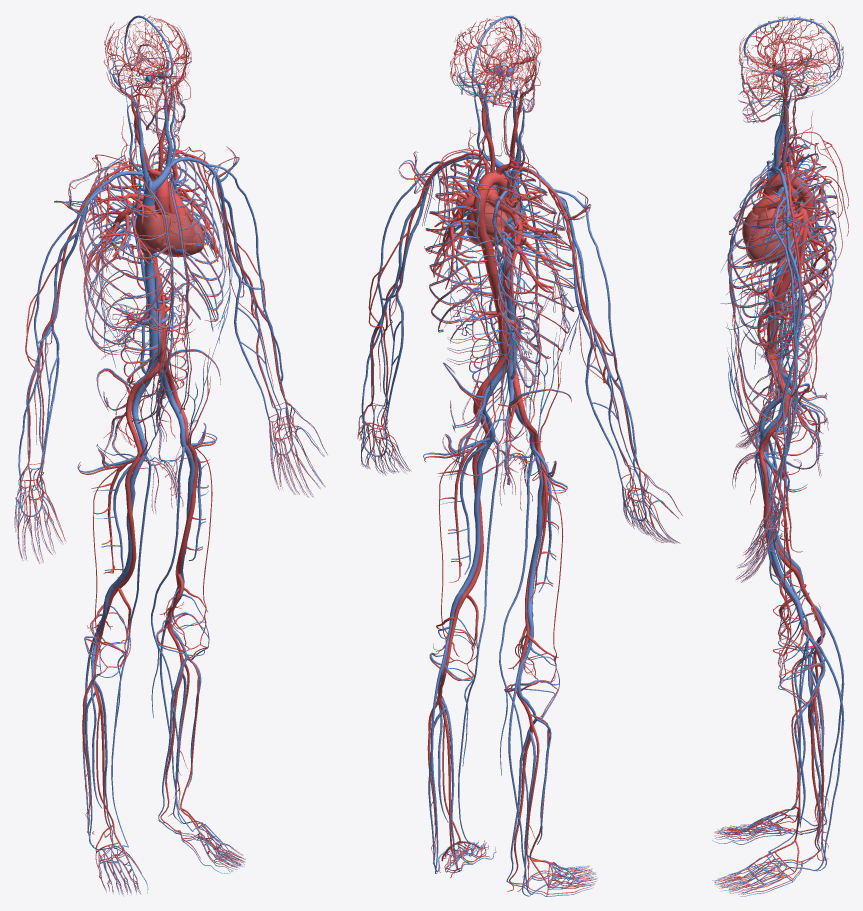
File: circulatory.glb
The picture shows the model from 3 angles, left to right: view 1: azimuth 30°, elevation 25°; view 2: azimuth 150°, elevation 25°; view 3: azimuth 270°, elevation 25°; orthographic projection. The views are drawn at different scales.
Parts seen in each view (by area): view 1: CRD.right_superior_intercostal_vein.C, CRD.posterior_intercostal_arteries.R, CRD.left_superior_intercostal_vein.C, CRD.great_saphenous_vein.L, CRD.right_atrium.C, CRD.great_saphenous_vein.R, CRD.right_ventricle.C, CRD.posterior_intercostal_arteries.L, CRD.femoral_artery.R, CRD.cephalic_vein.R, CRD.femoral_artery.L, CRD.cephalic_vein.L (+2 smaller); view 2: CRD.posterior_intercostal_arteries.R, CRD.right_superior_intercostal_vein.C, CRD.left_superior_intercostal_vein.C, CRD.posterior_intercostal_arteries.L, CRD.great_saphenous_vein.L, CRD.great_saphenous_vein.R, CRD.femoral_vein.L, CRD.femoral_vein.R, CRD.cephalic_vein.R, CRD.thoracic_aorta.C, CRD.basilic_vein.L, CRD.basilic_vein.R (+4 smaller); view 3: CRD.left_superior_intercostal_vein.C, CRD.posterior_intercostal_arteries.L, CRD.cephalic_vein.L, CRD.right_superior_intercostal_vein.C, CRD.left_ventricle.C, CRD.small_saphenous_vein.L, CRD.femoral_artery.L, CRD.great_saphenous_vein.R, CRD.abdominal_aorta.C, CRD.small_saphenous_vein.R, CRD.great_saphenous_vein.L, CRD.posterior_intercostal_arteries.R (+24 smaller).
Boxes of the visible parts, <box> form: CRD.right_superior_intercostal_vein.C: <box>81,155,172,351</box>; CRD.posterior_intercostal_arteries.R: <box>79,163,169,354</box>; CRD.left_superior_intercostal_vein.C: <box>144,147,225,330</box>; CRD.great_saphenous_vein.L: <box>151,446,192,831</box>; CRD.right_atrium.C: <box>135,205,170,254</box>; CRD.great_saphenous_vein.R: <box>111,456,151,846</box>; CRD.right_ventricle.C: <box>153,211,197,256</box>; CRD.posterior_intercostal_arteries.L: <box>149,153,225,331</box>; CRD.femoral_artery.R: <box>115,431,142,590</box>; CRD.cephalic_vein.R: <box>18,187,101,488</box>; CRD.femoral_artery.L: <box>175,419,198,575</box>; CRD.cephalic_vein.L: <box>202,162,289,422</box>; CRD.posterior_intercostal_arteries.R: <box>478,187,574,358</box>; CRD.right_superior_intercostal_vein.C: <box>493,170,574,357</box>; CRD.left_superior_intercostal_vein.C: <box>425,156,502,331</box>; CRD.posterior_intercostal_arteries.L: <box>425,177,501,332</box>; CRD.great_saphenous_vein.L: <box>458,439,499,844</box>; CRD.great_saphenous_vein.R: <box>499,451,539,859</box>; CRD.femoral_vein.L: <box>459,425,495,594</box>; CRD.femoral_vein.R: <box>527,435,543,610</box>; CRD.cephalic_vein.R: <box>554,189,643,496</box>; CRD.thoracic_aorta.C: <box>473,197,497,275</box>; CRD.basilic_vein.L: <box>384,202,424,426</box>; CRD.basilic_vein.R: <box>572,238,622,483</box>; CRD.left_superior_intercostal_vein.C: <box>729,163,836,358</box>; CRD.posterior_intercostal_arteries.L: <box>729,175,836,359</box>; CRD.cephalic_vein.L: <box>774,197,796,518</box>; CRD.right_superior_intercostal_vein.C: <box>729,144,836,304</box>; CRD.left_ventricle.C: <box>748,224,793,263</box>; CRD.small_saphenous_vein.L: <box>803,640,844,871</box>; CRD.femoral_artery.L: <box>759,431,793,601</box>; CRD.great_saphenous_vein.R: <box>755,432,820,820</box>; CRD.abdominal_aorta.C: <box>764,266,793,354</box>; CRD.small_saphenous_vein.R: <box>803,604,844,826</box>; CRD.great_saphenous_vein.L: <box>755,452,820,851</box>; CRD.posterior_intercostal_arteries.R: <box>729,153,836,308</box>.
Size of the model in its own units: 0.664 by 1.7 by 0.2489.
